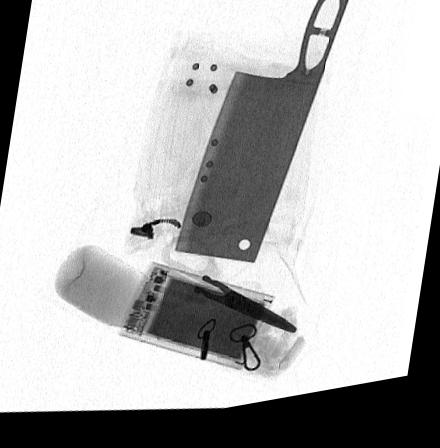Knife: (172, 0, 353, 272)
Powerbank: (115, 267, 277, 379)
Scissors: (142, 244, 299, 345)
